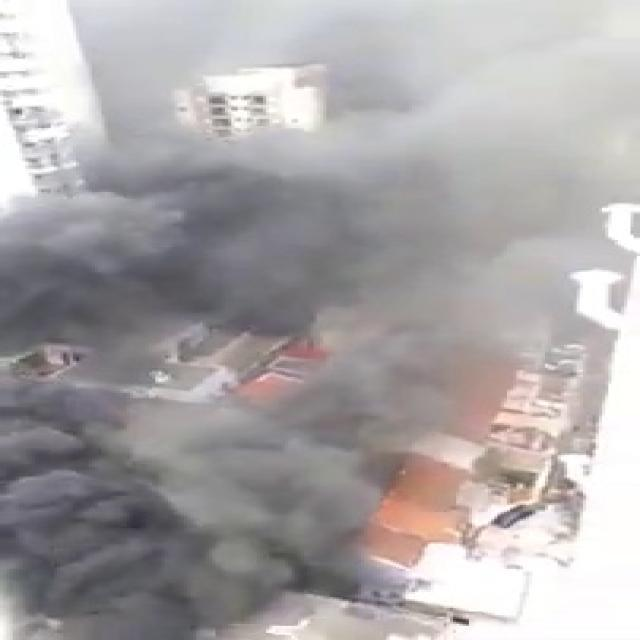Smoke: (0, 9, 554, 640)
